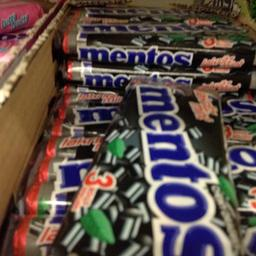candy: (76, 74, 226, 255), (55, 2, 249, 78)
